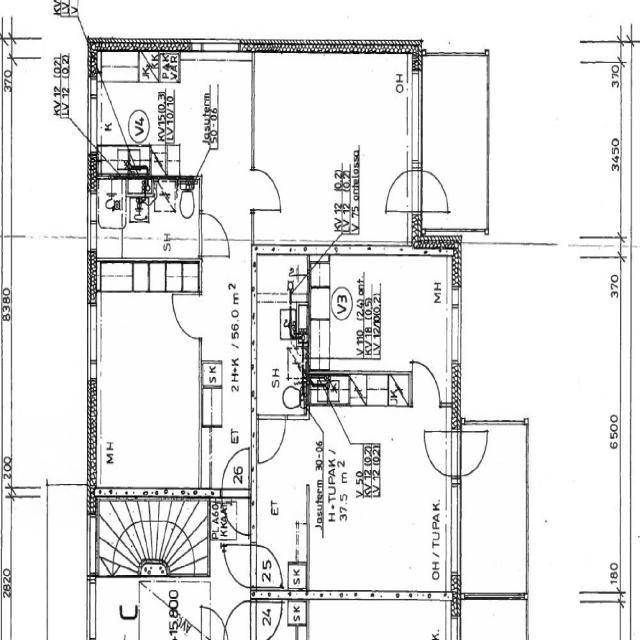door: (407, 354, 442, 408), (250, 162, 284, 217), (456, 426, 489, 478), (255, 414, 287, 467), (170, 290, 203, 341), (381, 167, 414, 216), (418, 165, 450, 215), (422, 429, 454, 478), (220, 444, 251, 493), (252, 542, 283, 590), (222, 540, 252, 588), (199, 208, 229, 255), (222, 496, 252, 537), (224, 599, 252, 639), (204, 605, 228, 639)
window: (405, 67, 425, 169), (445, 484, 463, 583), (84, 298, 104, 383), (445, 289, 465, 370), (193, 36, 240, 60), (83, 577, 97, 640), (88, 84, 99, 148), (250, 356, 258, 398)
zone: (249, 55, 407, 249), (94, 267, 200, 502), (313, 419, 444, 594), (307, 258, 451, 376), (418, 50, 490, 233), (457, 423, 529, 598), (163, 53, 251, 177), (255, 418, 312, 591), (252, 257, 305, 420), (89, 578, 209, 640), (94, 77, 172, 169), (119, 178, 200, 262), (458, 597, 527, 640), (96, 175, 125, 252), (220, 445, 250, 491), (252, 598, 284, 640), (99, 51, 138, 82)
